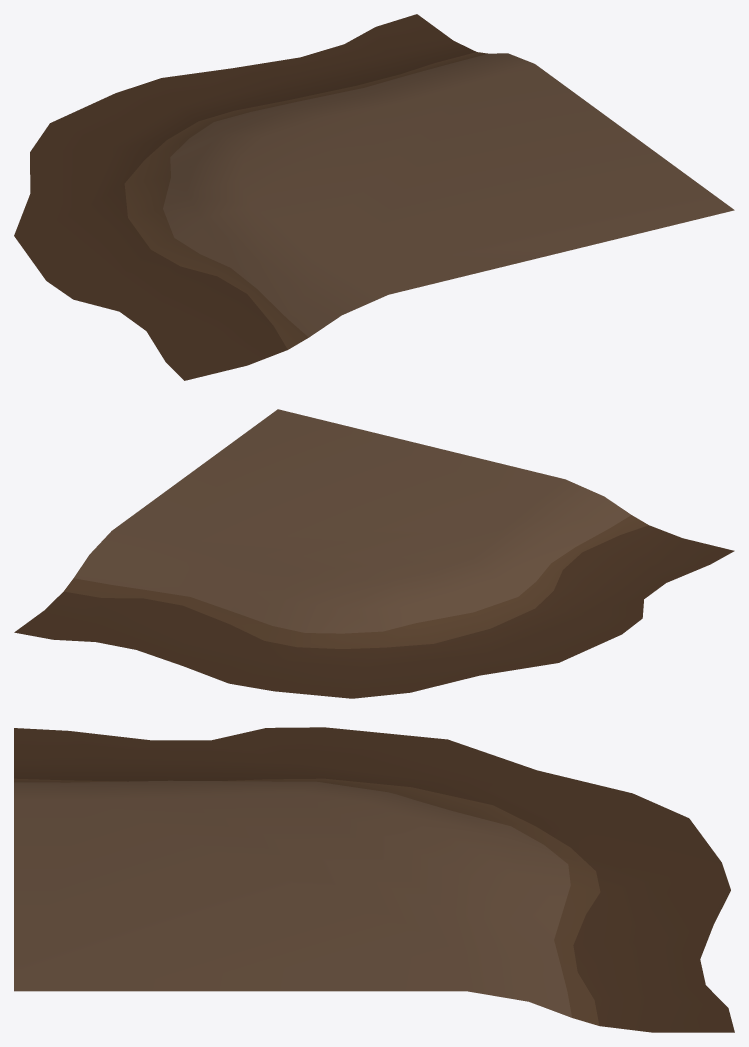
File: 20C_ground_river02_conner.fbx
3 renders of one model, top to bottom at view 1: azimuth 30°, elevation 25°; view 2: azimuth 150°, elevation 25°; view 3: azimuth 270°, elevation 25°, orthographic. The views are drawn at different scales.
Visible parts, largest first — view 1: 20C_ground_river02_conner; view 2: 20C_ground_river02_conner; view 3: 20C_ground_river02_conner.
Boxes of the visible parts, <box> form: 20C_ground_river02_conner: <box>14,14,734,380</box>; 20C_ground_river02_conner: <box>14,409,734,698</box>; 20C_ground_river02_conner: <box>14,727,734,1032</box>.
Size of the model in its own units: 116 by 7.35 by 116.
